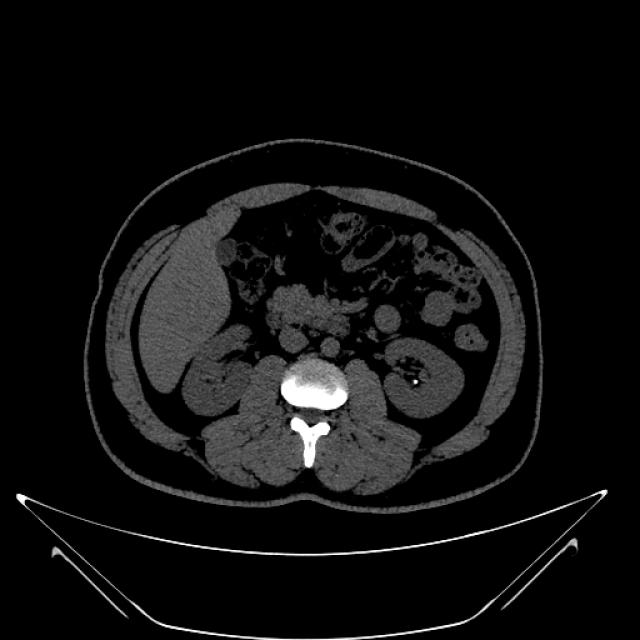kidneystone: (410, 374, 420, 386)
